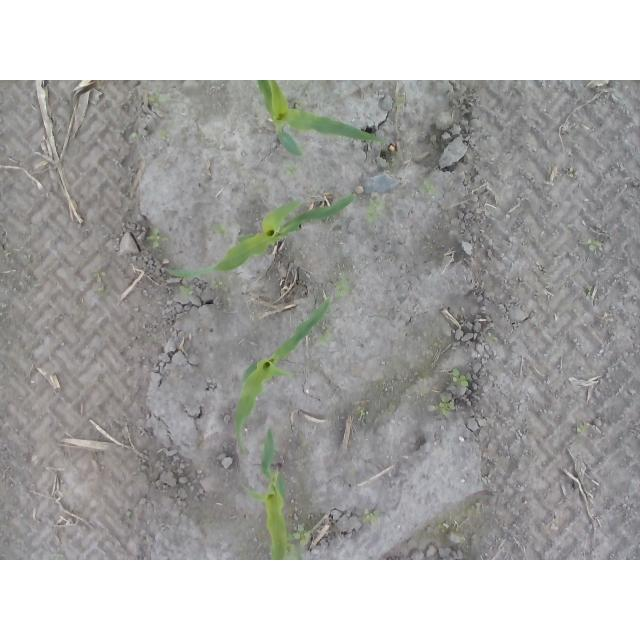Maize: (166, 193, 358, 278), (234, 296, 332, 456), (257, 82, 389, 159), (242, 427, 291, 559)
Weeds: (366, 198, 387, 222), (437, 397, 457, 420), (294, 526, 315, 546), (451, 370, 471, 390), (147, 230, 166, 251), (93, 269, 107, 295), (335, 281, 352, 299), (148, 93, 167, 108), (583, 239, 603, 253), (420, 181, 434, 199), (364, 510, 380, 524), (217, 223, 231, 237), (180, 287, 193, 297), (577, 424, 587, 433)
